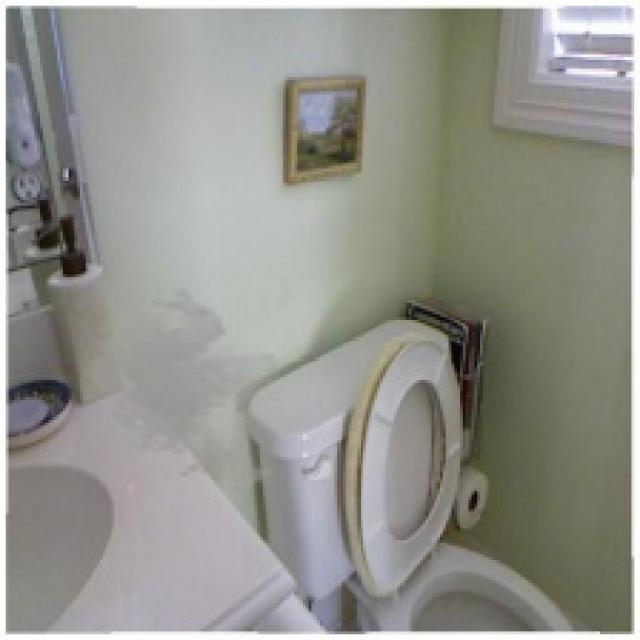Smoke: (80, 286, 303, 492)
